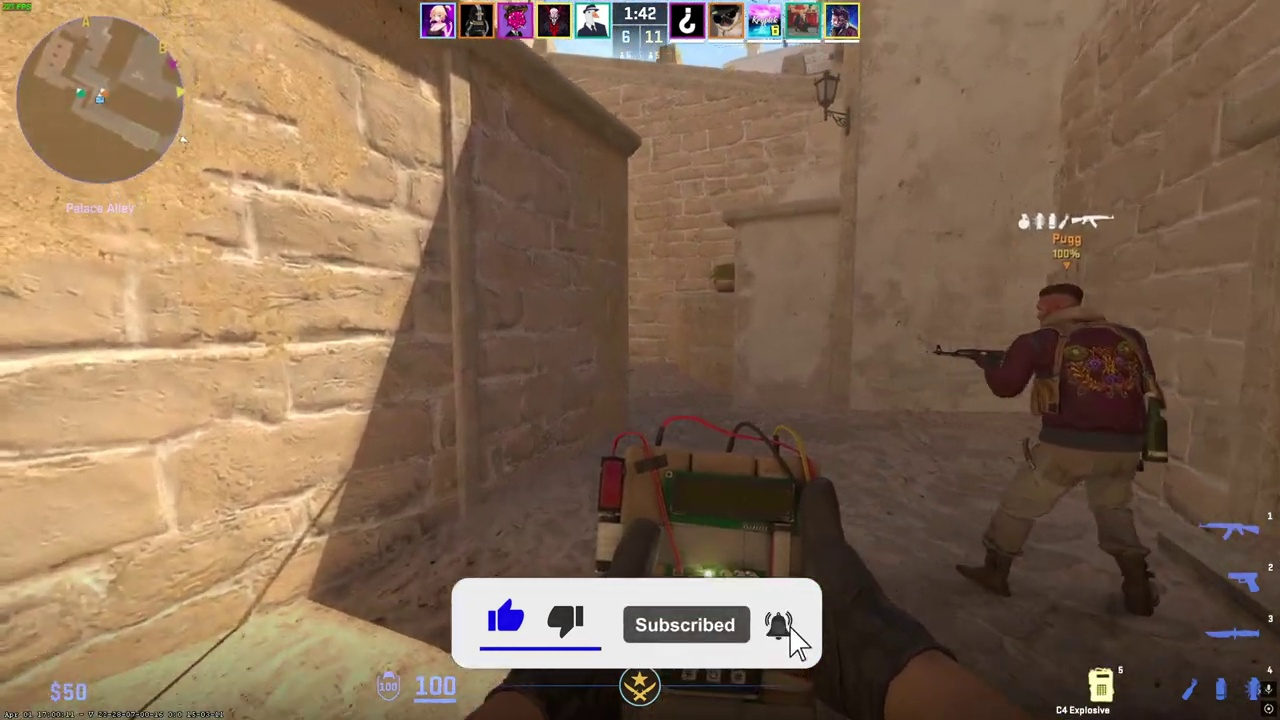Terrorist: (971, 283, 1168, 617)
